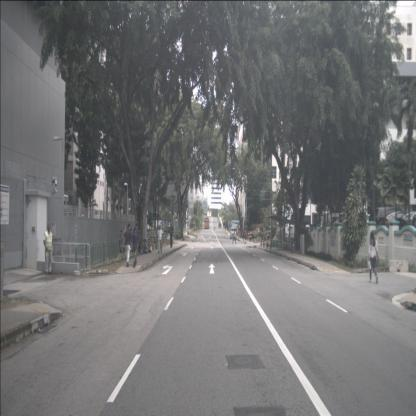human-pedestrian-adult: (367, 231, 379, 284), (122, 224, 133, 267), (132, 227, 139, 268), (133, 223, 140, 259), (156, 224, 163, 254), (168, 223, 174, 247), (119, 230, 124, 257), (140, 238, 148, 254), (146, 238, 152, 253), (233, 229, 236, 244), (244, 228, 247, 241), (242, 229, 245, 241)
vehicle-bus-rigid: (204, 218, 210, 229)
vehicle-car: (383, 210, 415, 236), (370, 207, 404, 229), (339, 213, 371, 234), (329, 216, 356, 236), (398, 211, 416, 239), (230, 228, 236, 239)
vehicle-motorcycle: (248, 232, 252, 242)
